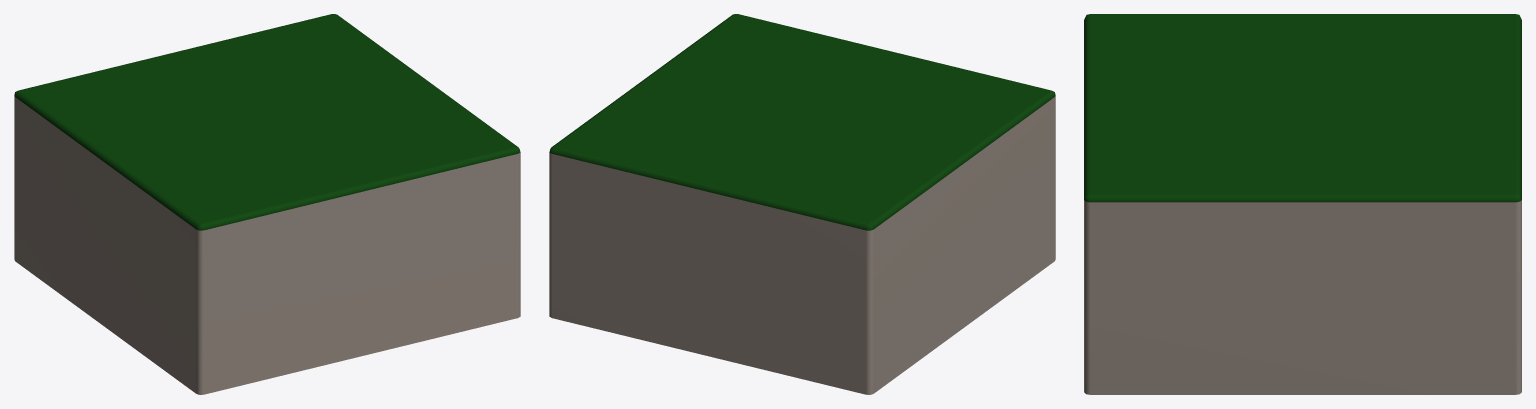
Rendered from Cliff_04.fbx.
3 renders of one model, left to right at view 1: azimuth 30°, elevation 25°; view 2: azimuth 150°, elevation 25°; view 3: azimuth 270°, elevation 25°, orthographic. The views are drawn at different scales.
Visible parts, largest first — view 1: Cliff_04; view 2: Cliff_04; view 3: Cliff_04.
Part boxes in pixels (<box>): Cliff_04: <box>14,14,520,394</box>; Cliff_04: <box>549,14,1055,394</box>; Cliff_04: <box>1084,14,1521,394</box>.
Size of the model in its own units: 200 by 100 by 200.
